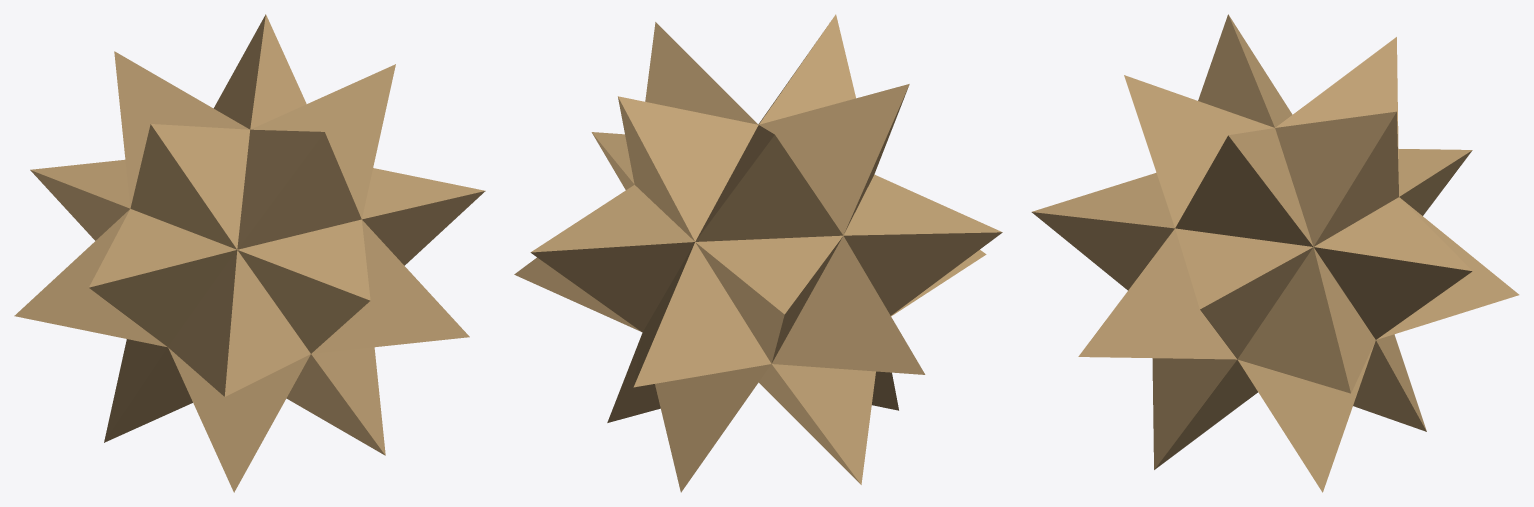
The model's file is GranDodecaedroEstrellado_Kepler.glb.
3 renders of one model, left to right at view 1: azimuth 30°, elevation 25°; view 2: azimuth 150°, elevation 25°; view 3: azimuth 270°, elevation 25°, orthographic. The views are drawn at different scales.
Parts seen in each view (by area): view 1: Solid.001; view 2: Solid.001; view 3: Solid.001.
Boxes of the visible parts, bbox=[...] form: Solid.001: bbox=[14, 14, 485, 492]; Solid.001: bbox=[514, 14, 1002, 492]; Solid.001: bbox=[1031, 14, 1519, 492].
Bounding box in the file's own units: 3.35 × 2.86 × 3.53.
